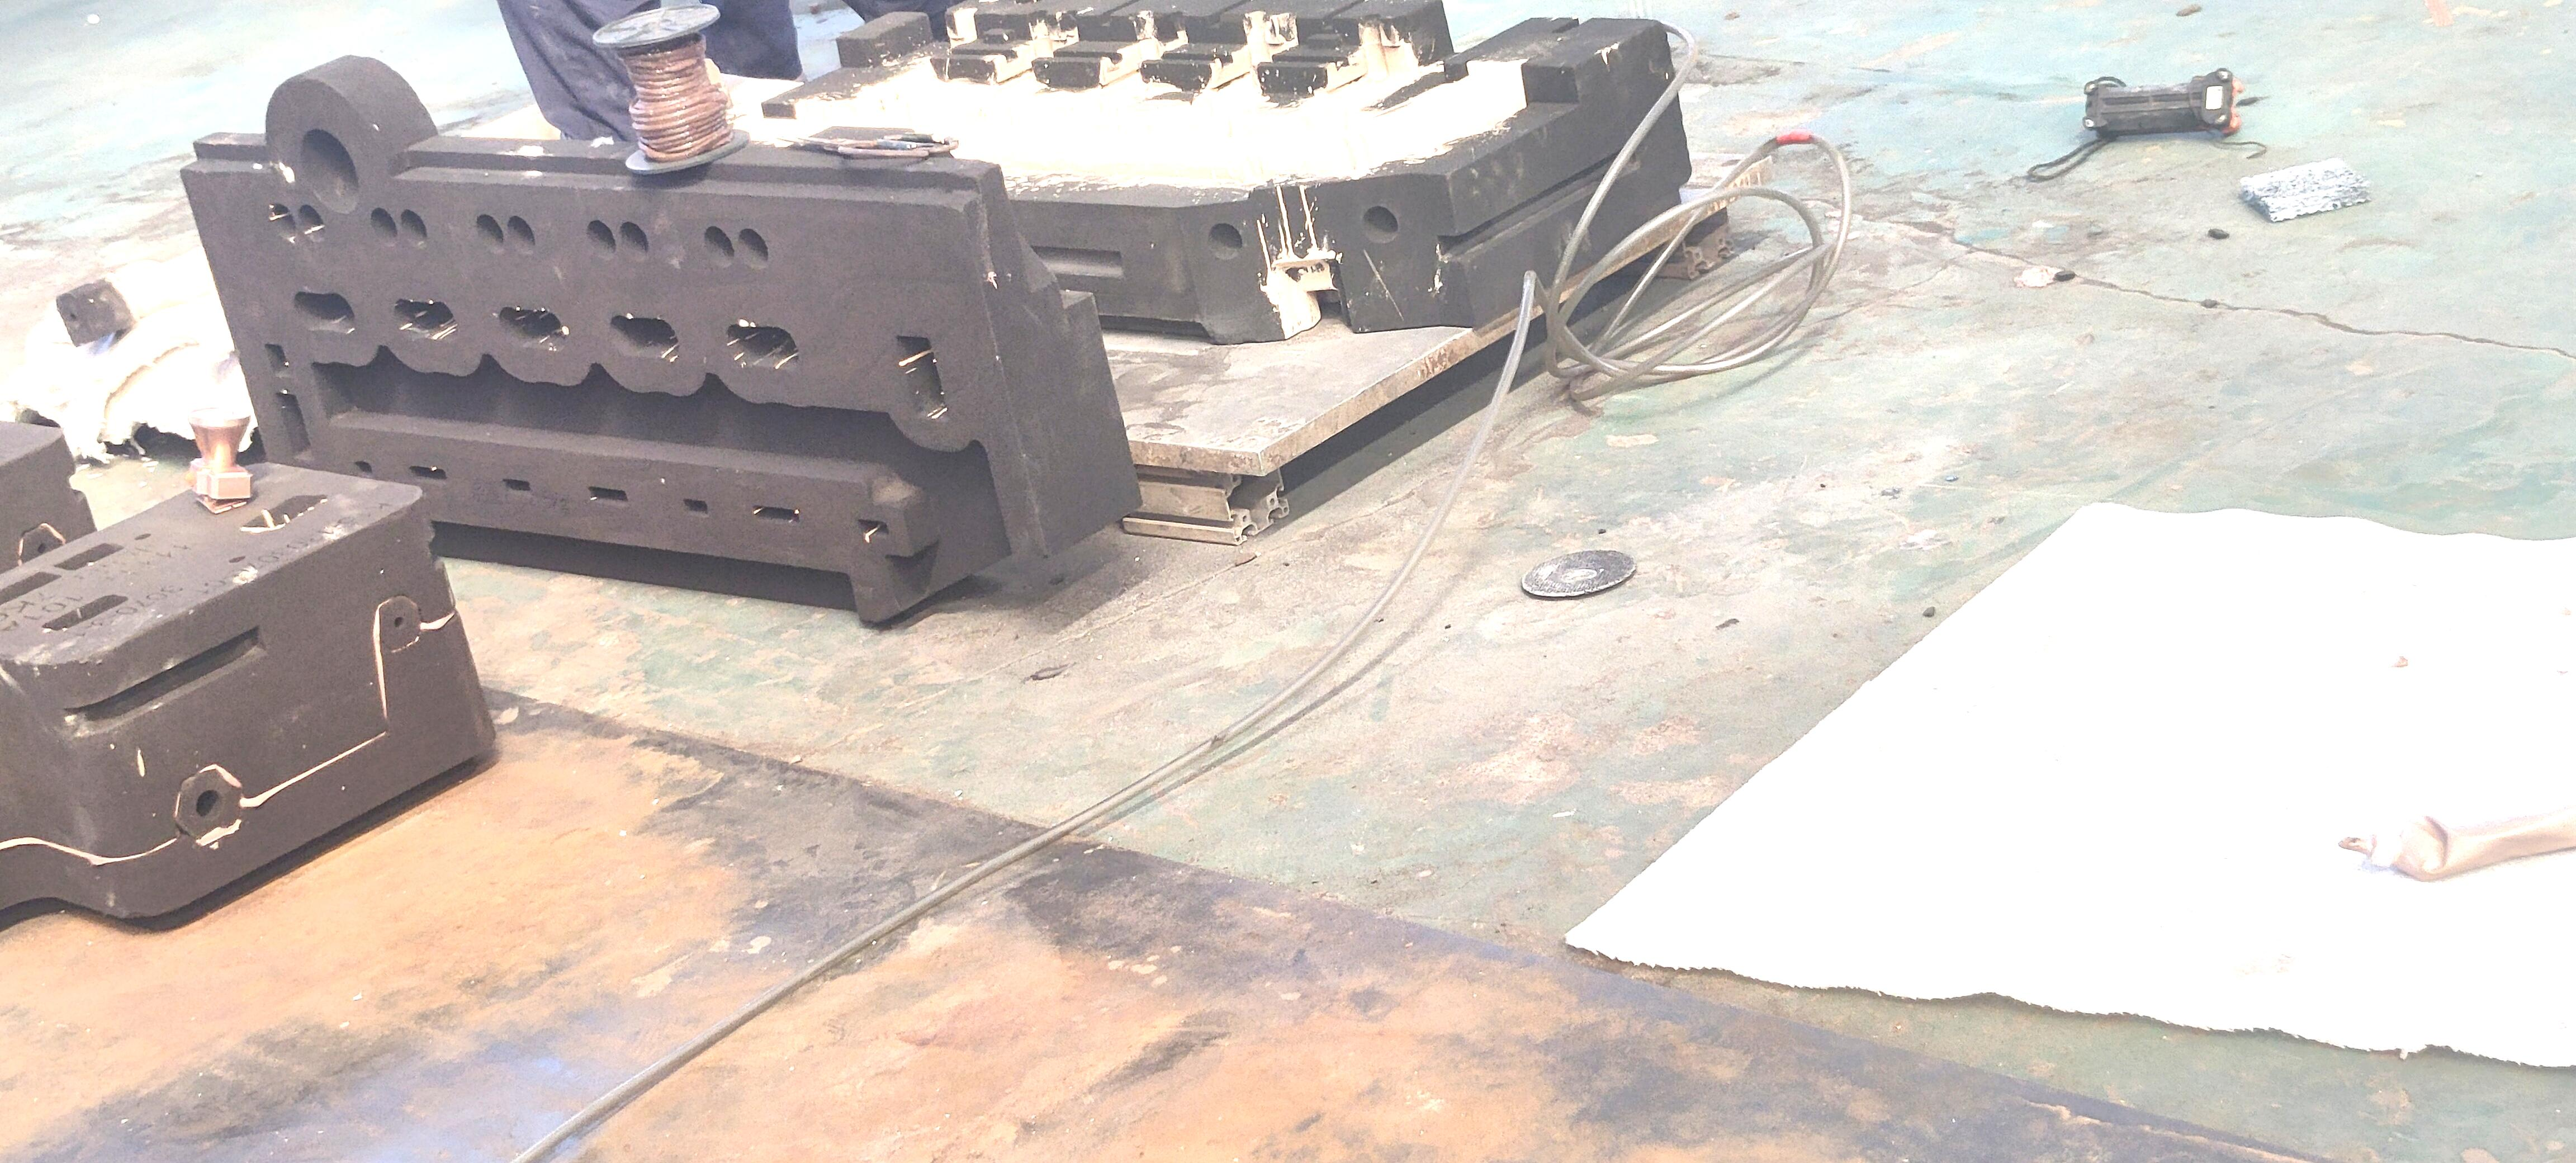pouring hole: (299, 128, 360, 214)
